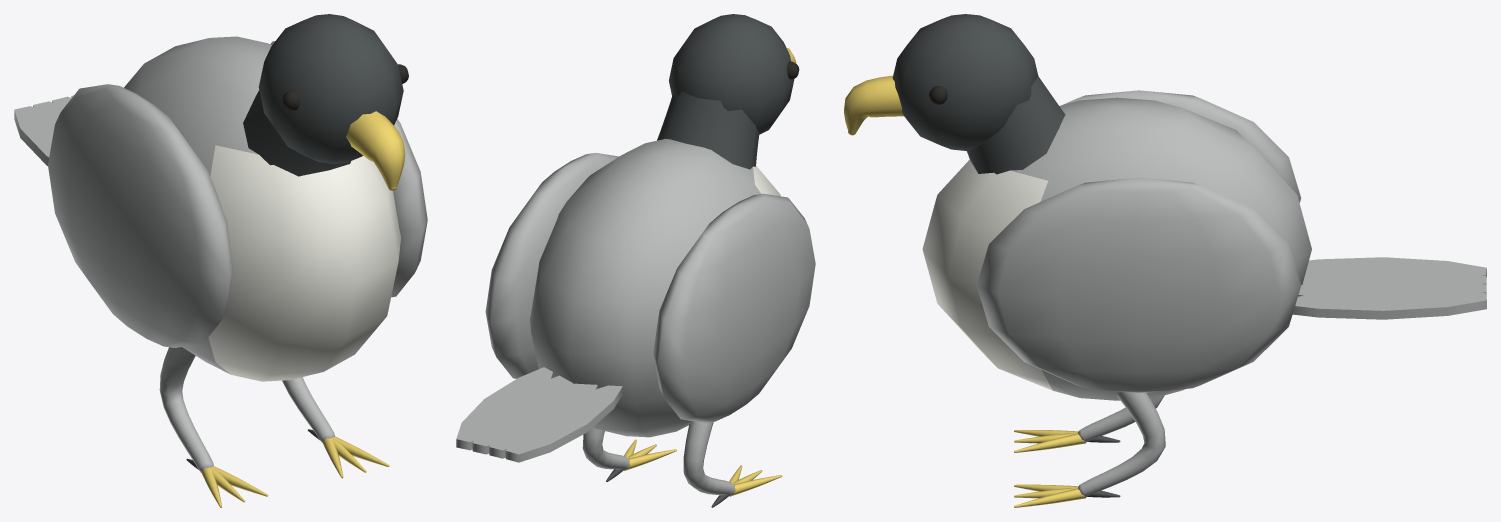
File: birds-and-flying-creatures-peregrine-falcon-e0e6a45a__20591.glb
The picture shows the model from 3 angles, left to right: view 1: azimuth 30°, elevation 25°; view 2: azimuth 150°, elevation 25°; view 3: azimuth 270°, elevation 25°; orthographic projection. The views are drawn at different scales.
Visible parts, largest first — view 1: peregrine-falcon; view 2: peregrine-falcon; view 3: peregrine-falcon.
Part boxes in pixels (x1=…): peregrine-falcon: x1=14, y1=14, x2=427, y2=507; peregrine-falcon: x1=456, y1=14, x2=815, y2=507; peregrine-falcon: x1=844, y1=14, x2=1486, y2=507.
Bounding box in the file's own units: 0.2505 × 0.441 × 0.5703.
